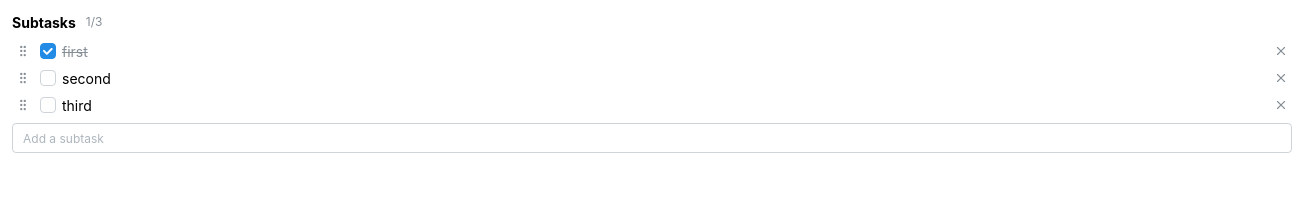
Test: SubtasksSection › a failed add puts the text back and says why
Type "fourth" into the field named "New subtask" at (652, 138), box [12,123,1292,153]
Then press Enter
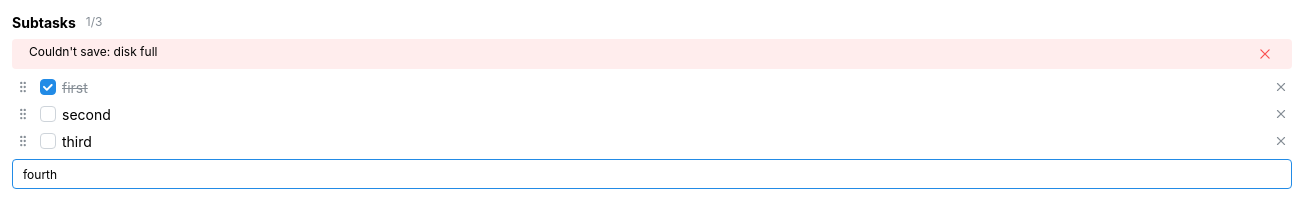
Result: the text "Couldn't save: disk full" is shown at [29,44,158,59]
